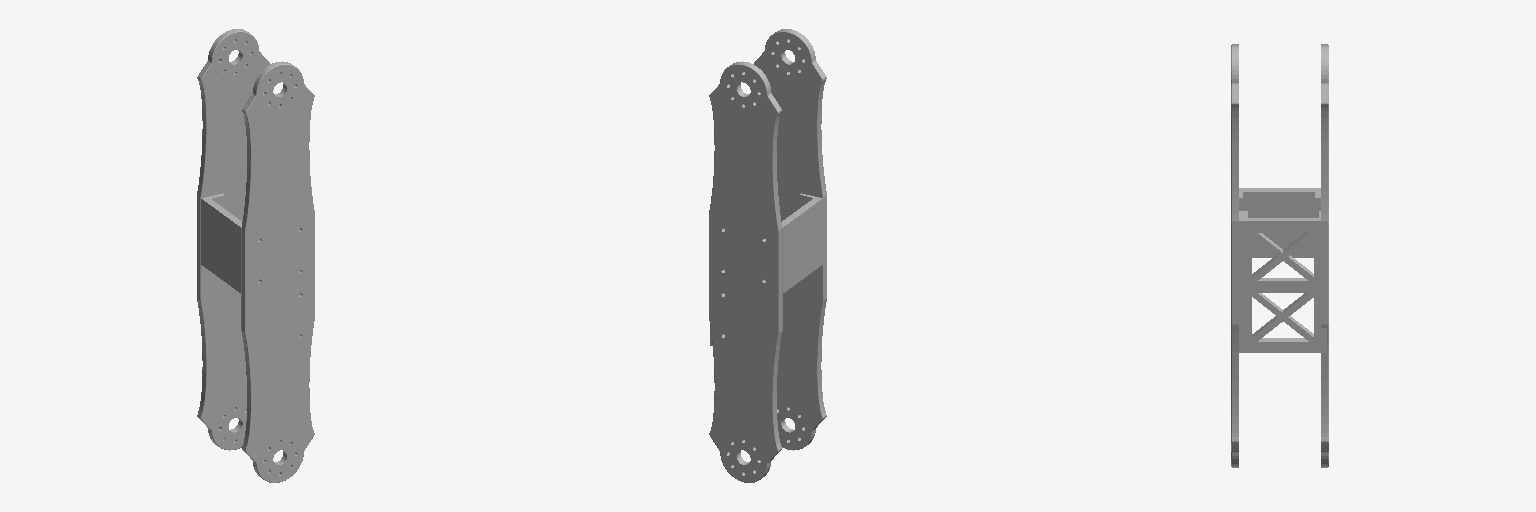
File: LEGlower.obj
3 renders of one model, left to right at view 1: azimuth 30°, elevation 25°; view 2: azimuth 150°, elevation 25°; view 3: azimuth 270°, elevation 25°, orthographic.
Size of the model in its own units: 5 by 28.4 by 6.